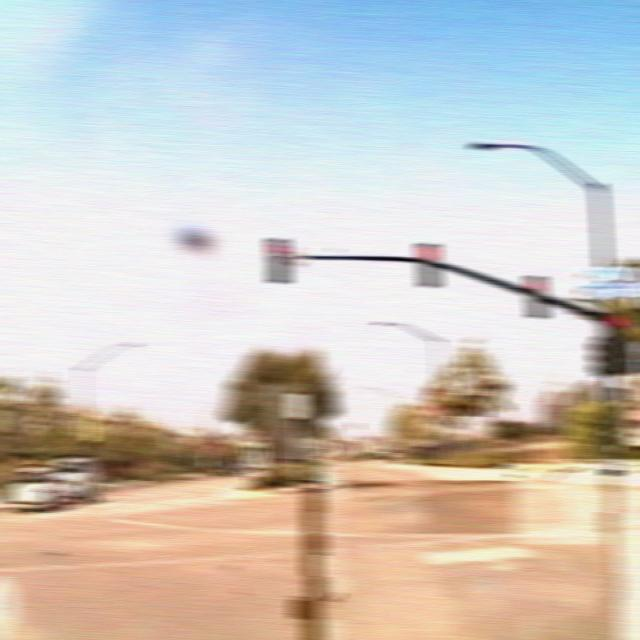speedLimit50: (285, 392, 307, 417)
